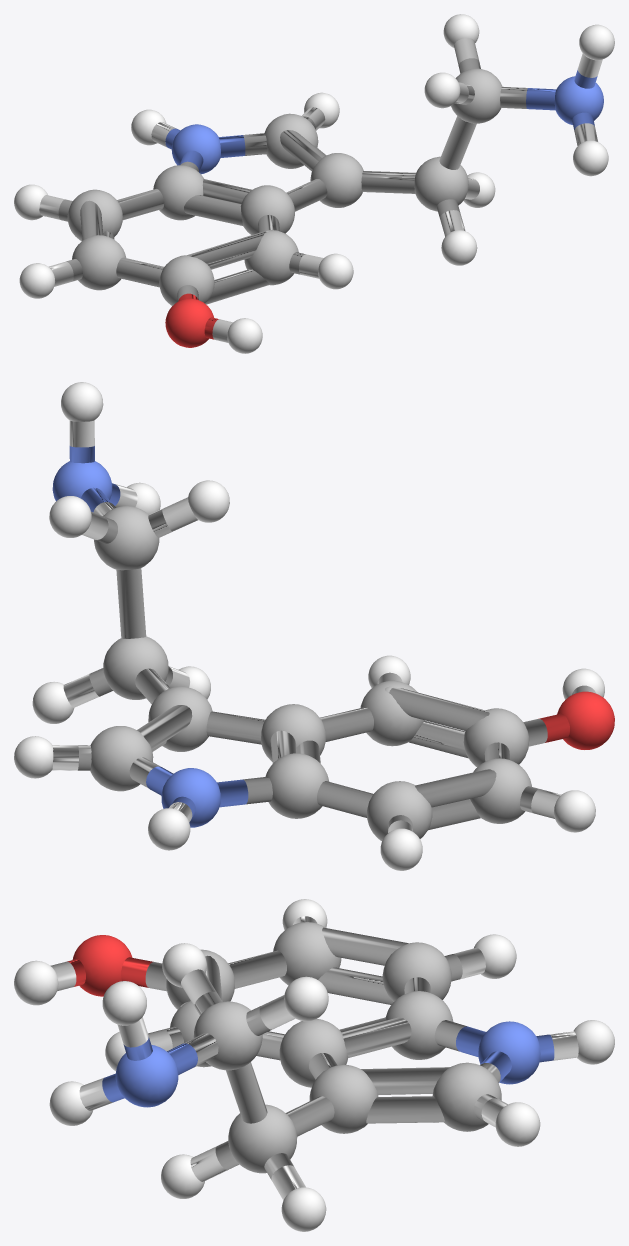
Rendered from Serotonin 1.fbx.
The picture shows the model from 3 angles, top to bottom: view 1: azimuth 30°, elevation 25°; view 2: azimuth 150°, elevation 25°; view 3: azimuth 270°, elevation 25°; orthographic projection. The views are drawn at different scales.
Parts seen in each view (by area): view 1: C4_Atom.002, C13_Atom.001, C6_Atom.002, C12_Atom.001, C5_Atom.002, C10_Atom.001, C9_Atom.001, C7_Atom.001, O1_Atom.001, C8_Atom.001, N3_Atom.001, N2_Atom.001 (+30 smaller); view 2: C7_Atom.001, C8_Atom.001, C9_Atom.001, C6_Atom.002, C11_Atom.001, C13_Atom.001, C12_Atom.001, O1_Atom.001, C10_Atom.001, C4_Atom.002, N2_Atom.001, Cylinder10.002 (+28 smaller); view 3: C4_Atom.002, C8_Atom.001, C6_Atom.002, C9_Atom.001, C5_Atom.002, N3_Atom.001, C7_Atom.001, C11_Atom.001, C13_Atom.001, N2_Atom.001, O1_Atom.001, Cylinder27.002 (+38 smaller).
Boxes of the visible parts, x1=… form: C4_Atom.002: x1=310, y1=153, x2=363, y2=207; C13_Atom.001: x1=72, y1=235, x2=126, y2=290; C6_Atom.002: x1=414, y1=156, x2=468, y2=211; C12_Atom.001: x1=159, y1=255, x2=214, y2=305; C5_Atom.002: x1=240, y1=185, x2=294, y2=234; C10_Atom.001: x1=244, y1=230, x2=298, y2=285; C9_Atom.001: x1=451, y1=68, x2=502, y2=123; C7_Atom.001: x1=153, y1=165, x2=203, y2=220; O1_Atom.001: x1=165, y1=298, x2=213, y2=347; C8_Atom.001: x1=264, y1=113, x2=318, y2=168; N3_Atom.001: x1=554, y1=76, x2=603, y2=124; N2_Atom.001: x1=171, y1=124, x2=220, y2=174; C7_Atom.001: x1=265, y1=753, x2=329, y2=818; C8_Atom.001: x1=90, y1=726, x2=153, y2=791; C9_Atom.001: x1=94, y1=506, x2=159, y2=570; C6_Atom.002: x1=103, y1=636, x2=168, y2=699; C11_Atom.001: x1=367, y1=781, x2=432, y2=840; C13_Atom.001: x1=470, y1=758, x2=531, y2=823; C12_Atom.001: x1=463, y1=708, x2=529, y2=767; O1_Atom.001: x1=557, y1=691, x2=614, y2=749; C10_Atom.001: x1=360, y1=680, x2=424, y2=746; C4_Atom.002: x1=148, y1=686, x2=212, y2=751; N2_Atom.001: x1=161, y1=768, x2=220, y2=827; Cylinder10.002: x1=389, y1=687, x2=489, y2=730; C4_Atom.002: x1=309, y1=1064, x2=378, y2=1133; C8_Atom.001: x1=432, y1=1062, x2=501, y2=1131; C6_Atom.002: x1=228, y1=1104, x2=297, y2=1173; C9_Atom.001: x1=193, y1=1001, x2=262, y2=1070; C5_Atom.002: x1=279, y1=1019, x2=348, y2=1087; N3_Atom.001: x1=115, y1=1045, x2=178, y2=1107; C7_Atom.001: x1=385, y1=991, x2=453, y2=1059; C11_Atom.001: x1=382, y1=942, x2=451, y2=1001; C13_Atom.001: x1=273, y1=922, x2=341, y2=985; N2_Atom.001: x1=478, y1=1021, x2=540, y2=1084; O1_Atom.001: x1=72, y1=935, x2=132, y2=996; Cylinder27.002: x1=366, y1=1096, x2=444, y2=1123.
Size of the model in its own units: 847 by 354 by 681.
